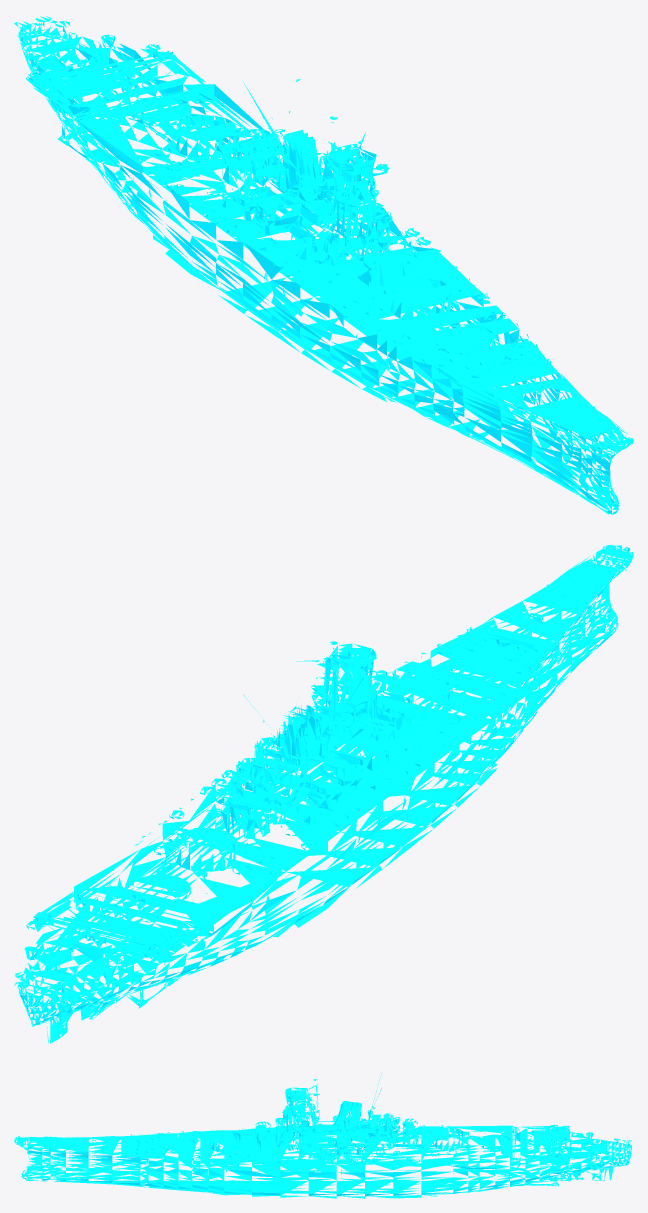
File: Satsuma.glb
3 views of the same model, one above another, from view 1: azimuth 30°, elevation 25°; view 2: azimuth 150°, elevation 25°; view 3: azimuth 270°, elevation 25° (orthographic). The views are drawn at different scales.
Bounding box in the file's own units: 2.83 × 3.59 × 19.91.
